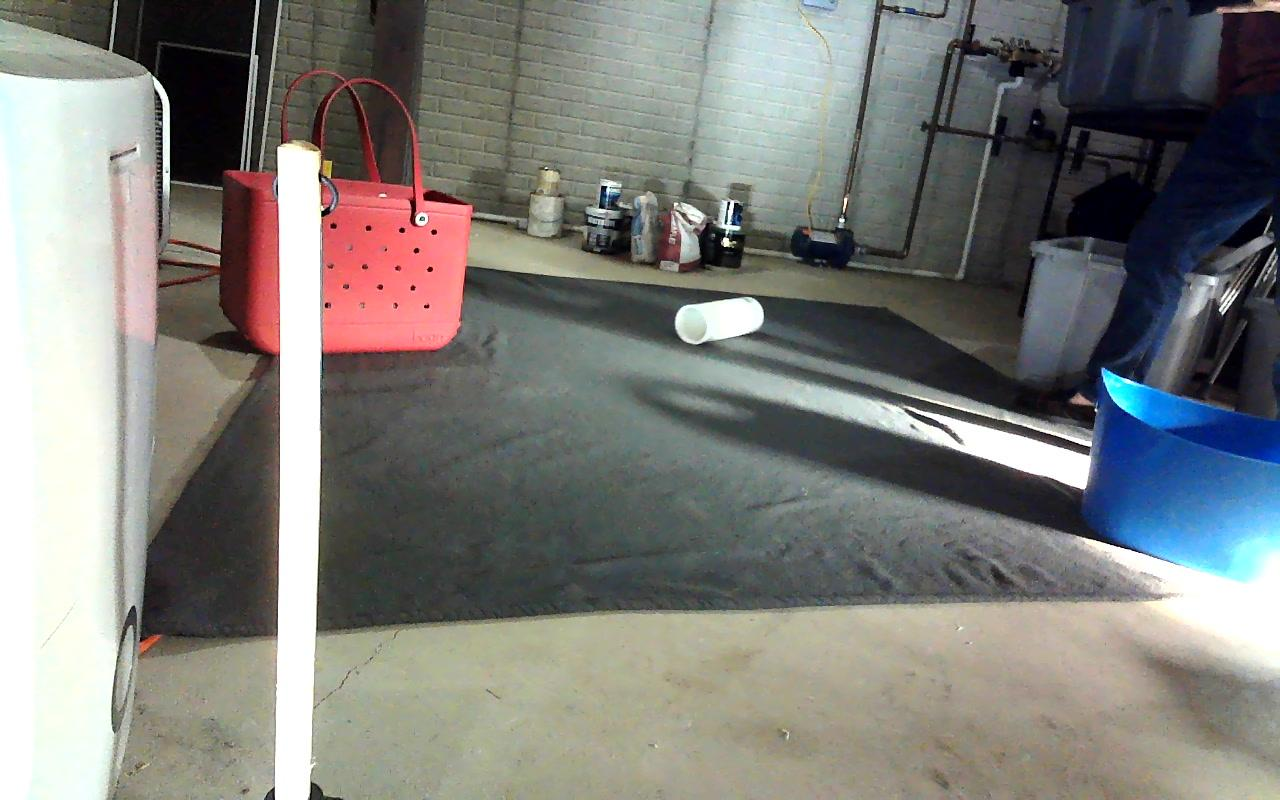coral: (675, 298, 762, 343)
